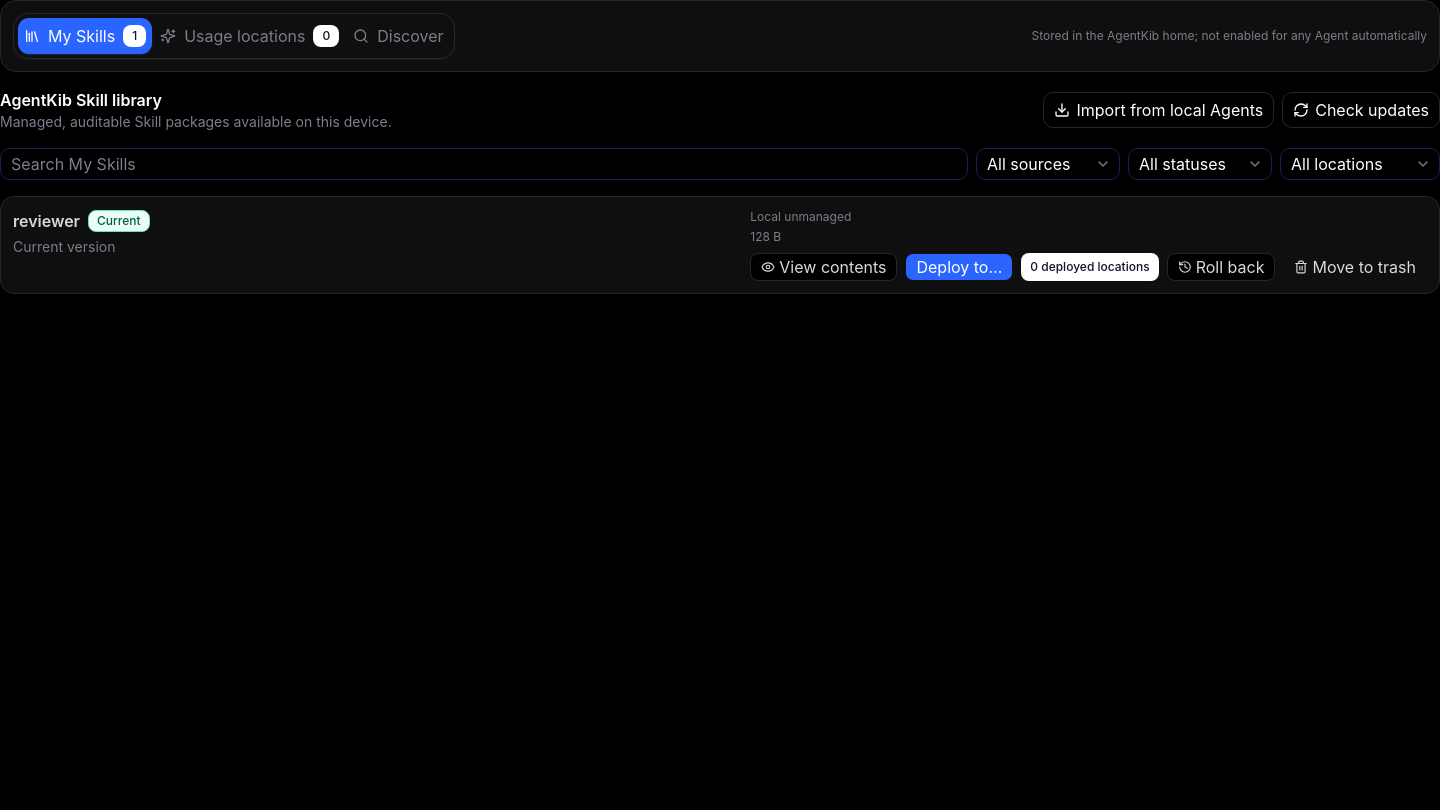
SkillHubPage › keeps a successful rollback and refresh error while refreshing the catalog
What coordinates should you click on to do the following:
click the tab "Discover"
I would click on:
 (398, 36)
Its box is [347,18,450,54].
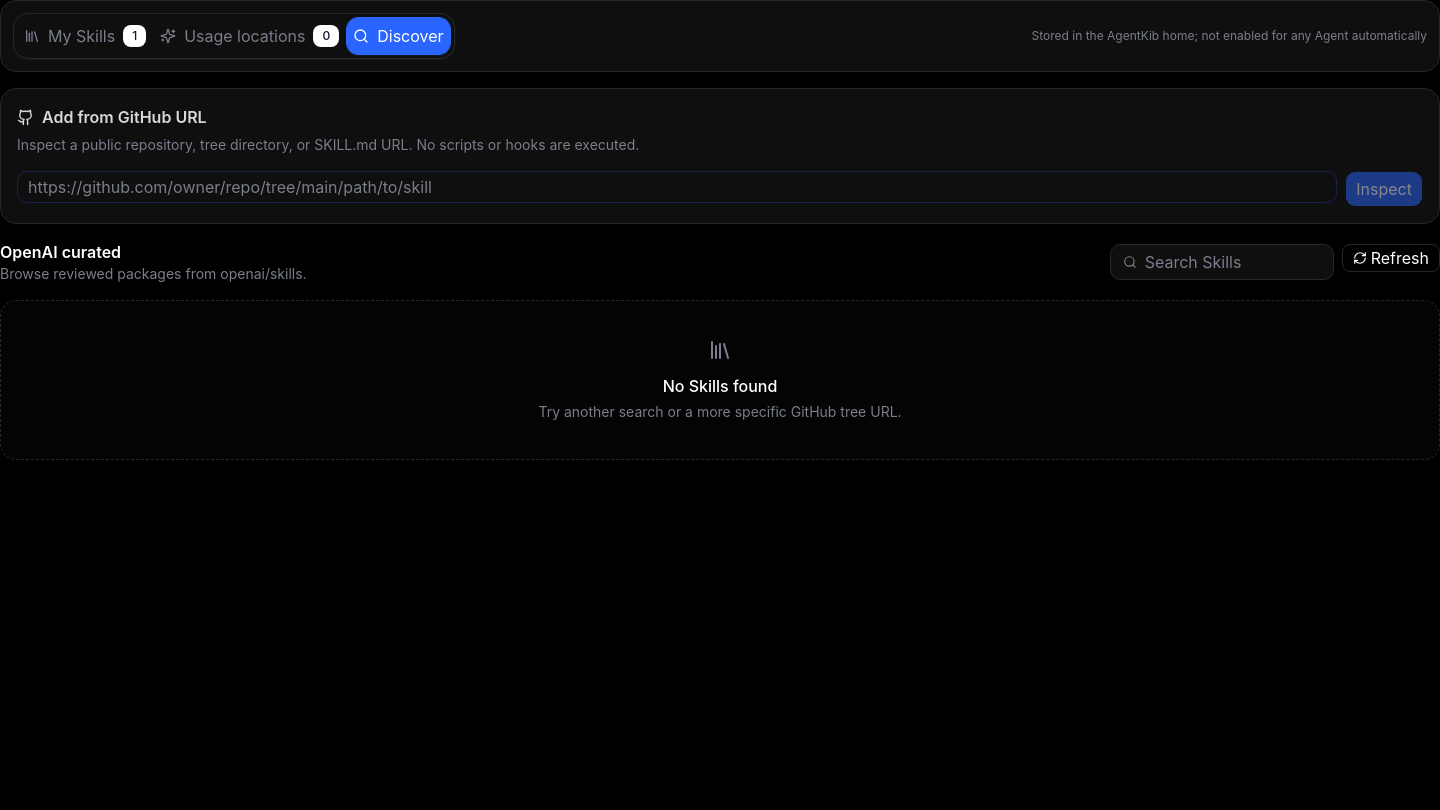
What coordinates should you click on to do the following:
click the tab "My Skills 1"
I would click on:
 (85, 36)
Its box is [18,18,152,54].
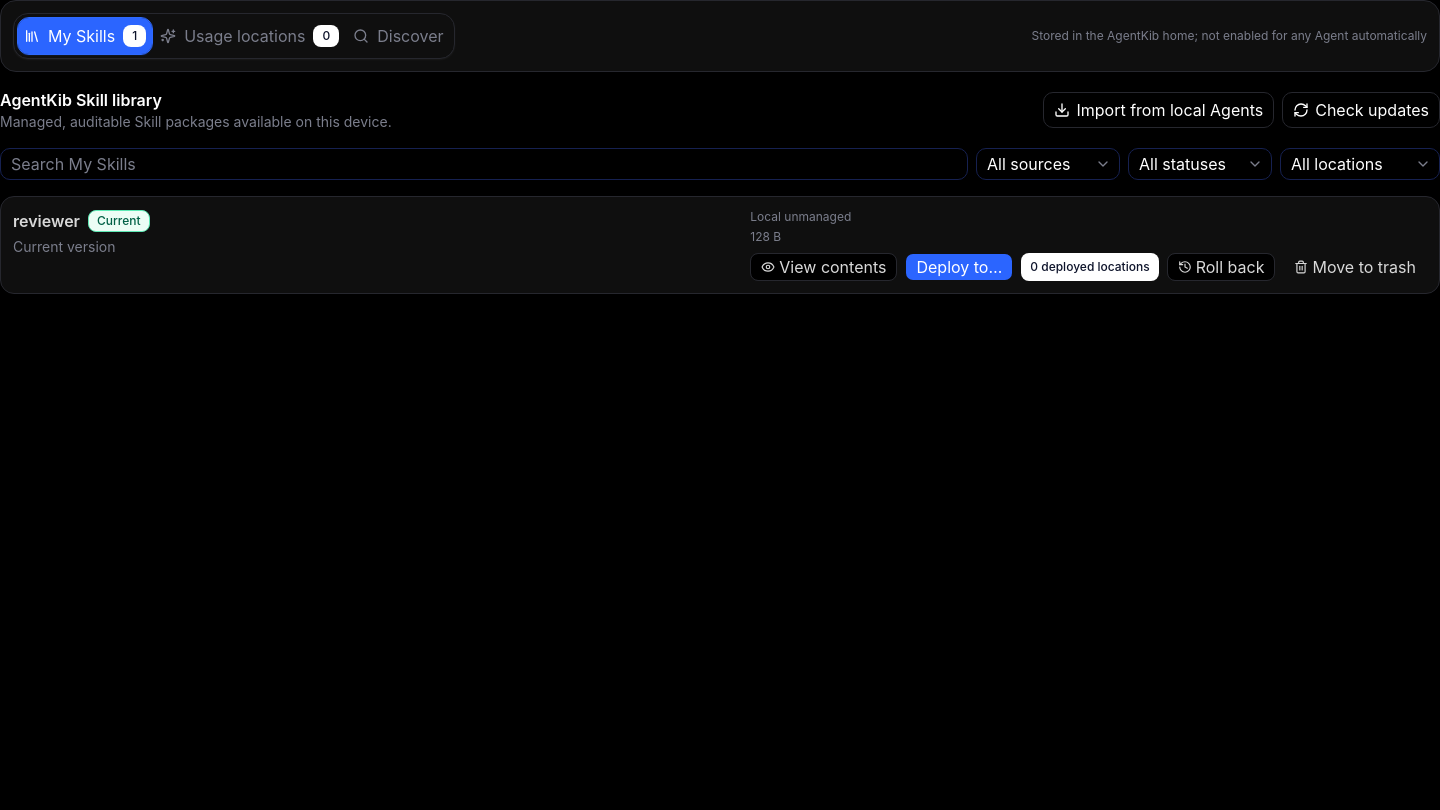
What coordinates should you click on to do the following:
click the button "Roll back"
I would click on:
 (1221, 267)
Its box is [1167,253,1276,281].
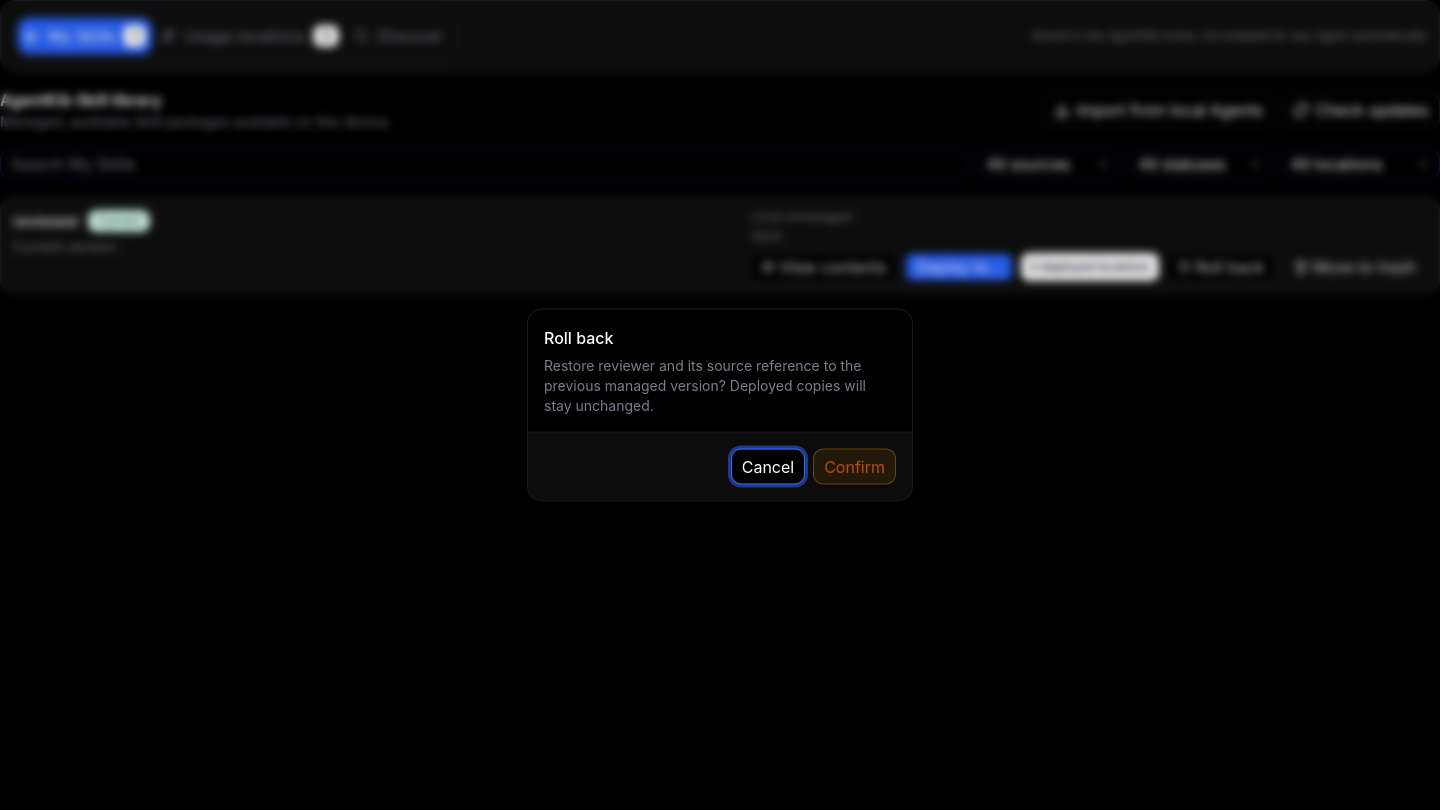
What coordinates should you click on to do the following:
click the button "Confirm"
I would click on:
 (855, 466)
Its box is [813,448,896,484].
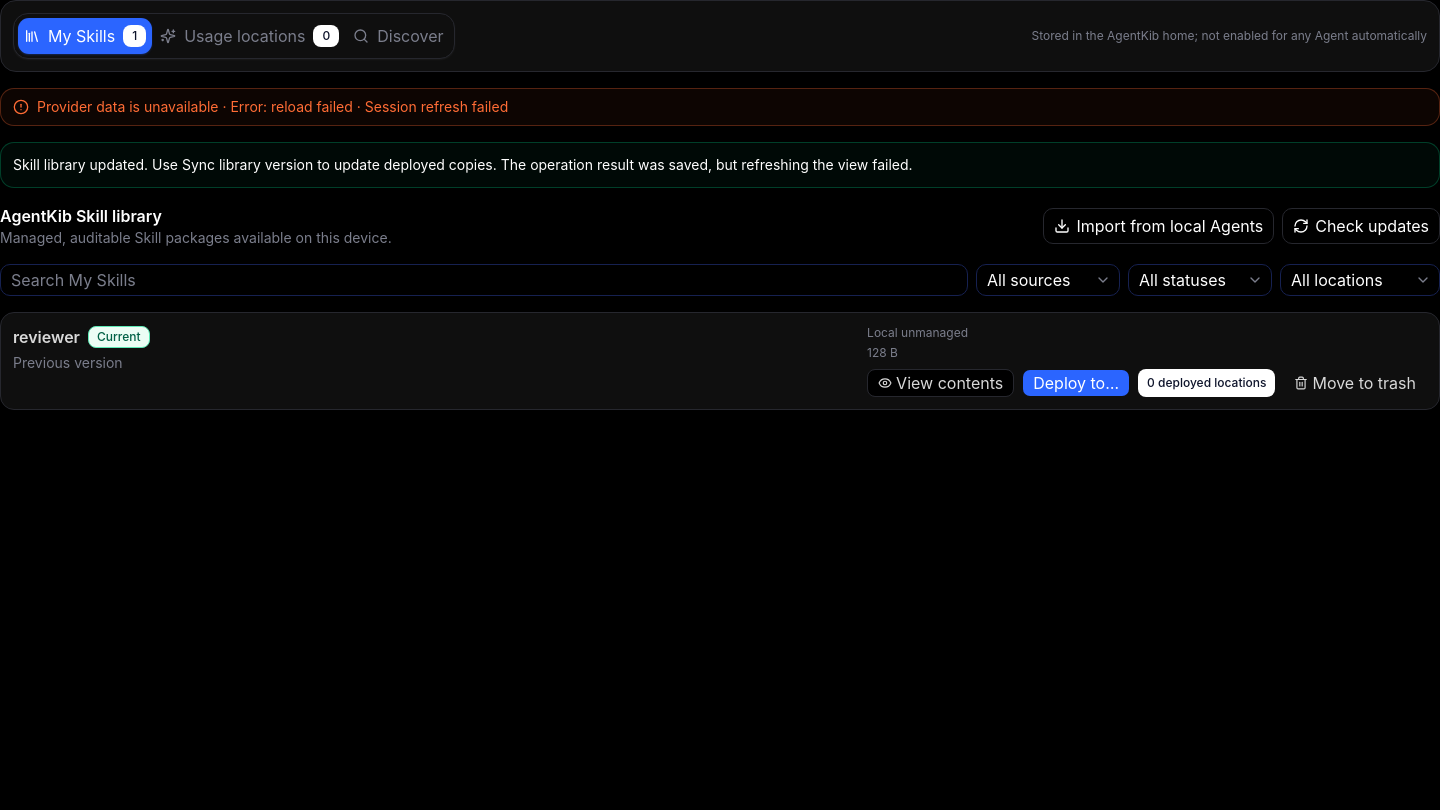
Now the button "Roll back" is gone
Now the text "Previous version" is shown, box [13,354,123,371]
